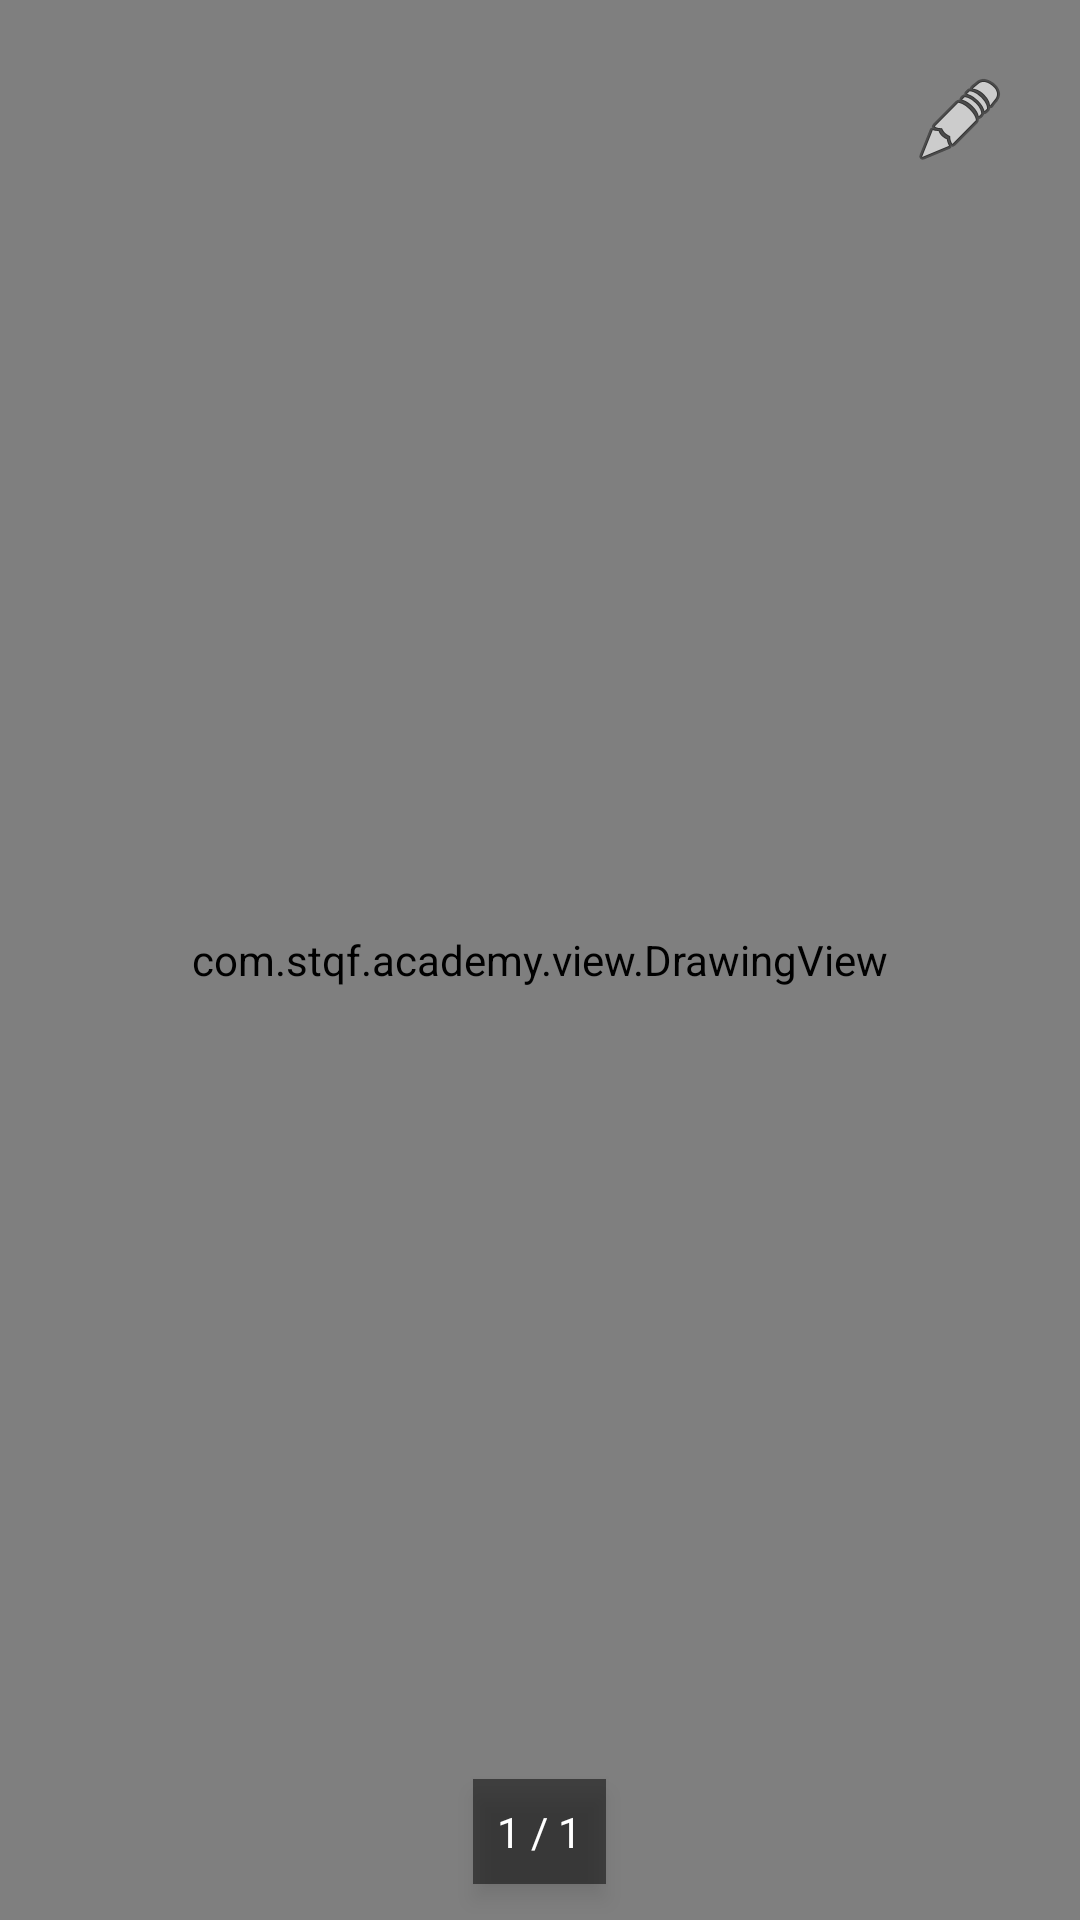

Where icons sit on this 1080×1920 app screen, as [x1,y1,x2,y2]:
edit: [919,79,1000,160]
